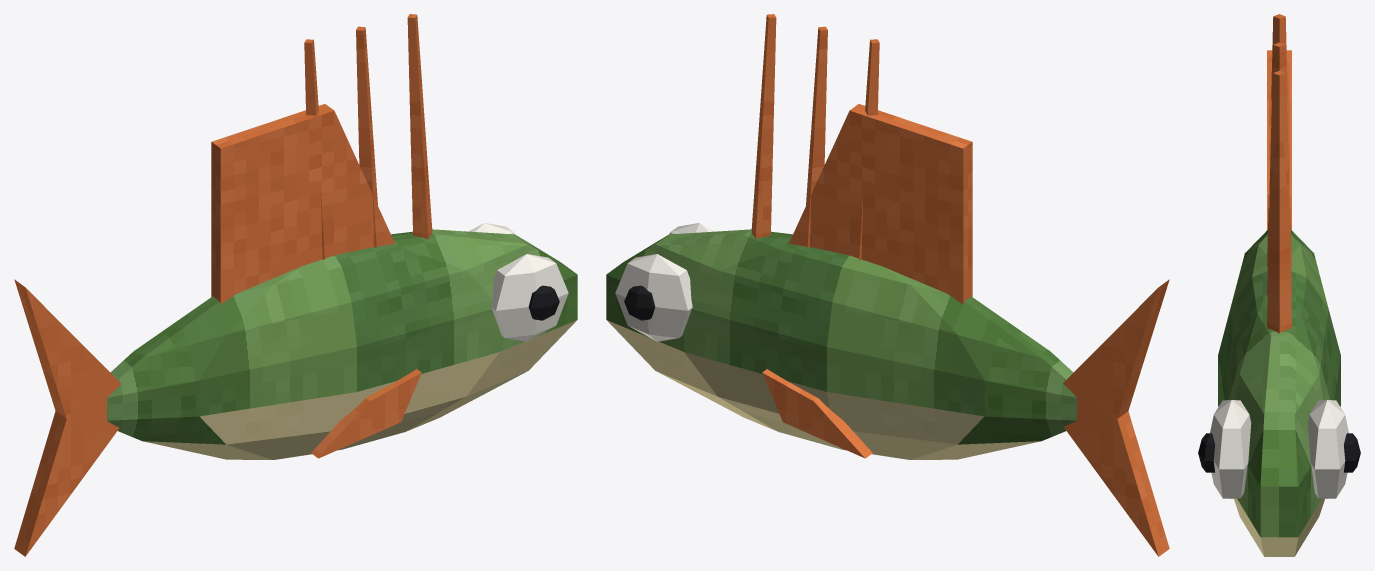
3 views of the same model, side by side, from view 1: azimuth 30°, elevation 25°; view 2: azimuth 150°, elevation 25°; view 3: azimuth 270°, elevation 25° (orthographic). The views are drawn at different scales.
Visible parts, largest first — view 1: Fish_perch; view 2: Fish_perch; view 3: Fish_perch.
Part boxes in pixels (x1,y1,x2,y2): Fish_perch: (14, 14, 577, 556); Fish_perch: (606, 14, 1169, 556); Fish_perch: (1198, 14, 1360, 556).
Bounding box in the file's own units: 0.3404 × 0.2611 × 0.0776.
5 materials, 5 textured.
